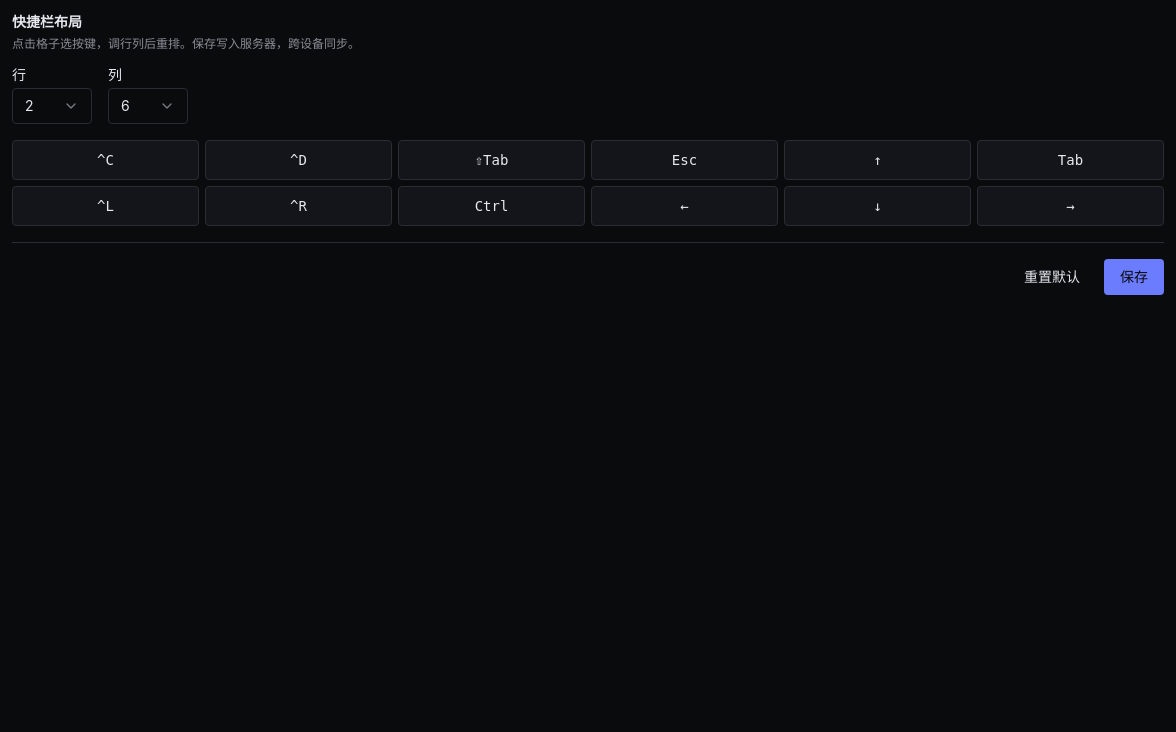
Test: ToolbarConfigSection › clicking a cell opens key picker with grouped catalog
What coordinates should you click on to do the following:
click the button "^C"
I would click on:
 (106, 160)
Its box is [12,140,199,180].
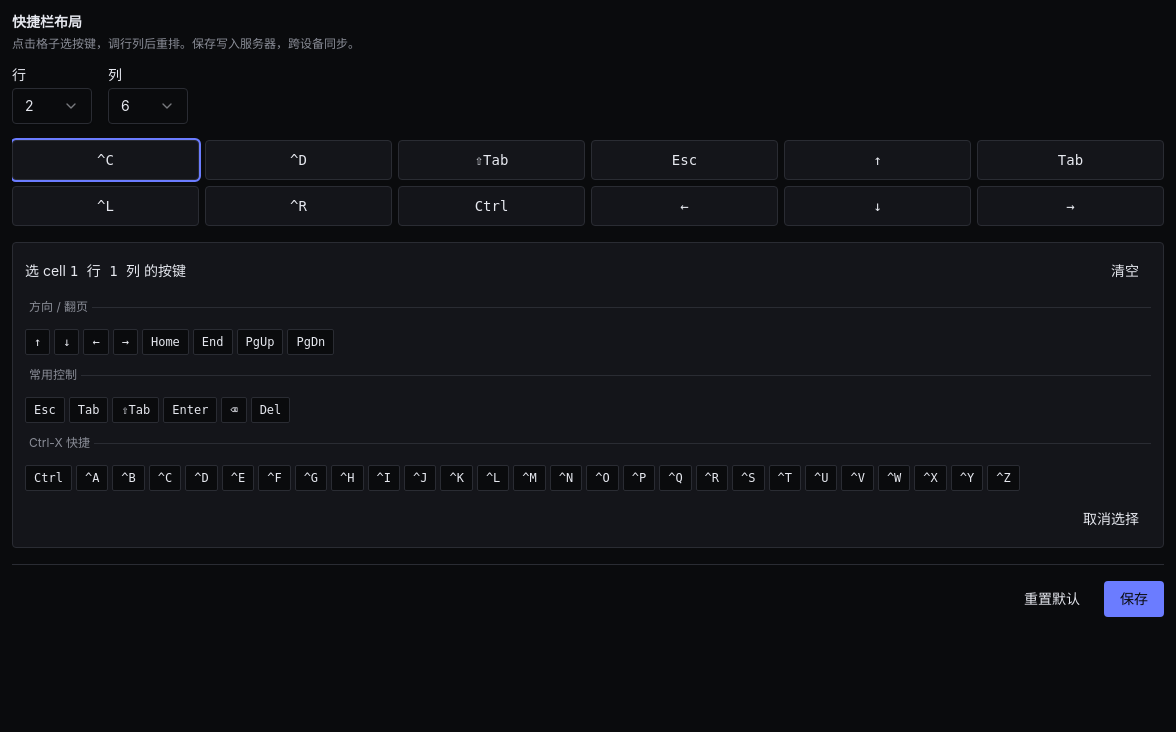
expect the text "方向 / 翻页" is shown: met, box [25,299,92,315]
expect the text "常用控制" is shown: met, box [25,367,81,383]
expect the text "Ctrl-X 快捷" is shown: met, box [25,435,94,451]
